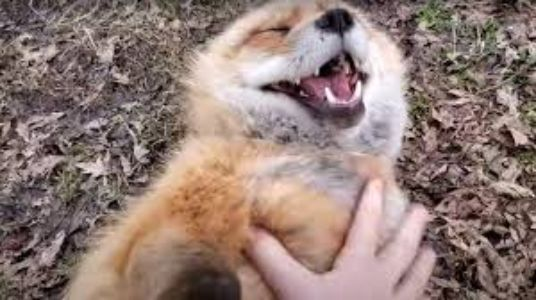fox: (147, 12, 460, 189)
